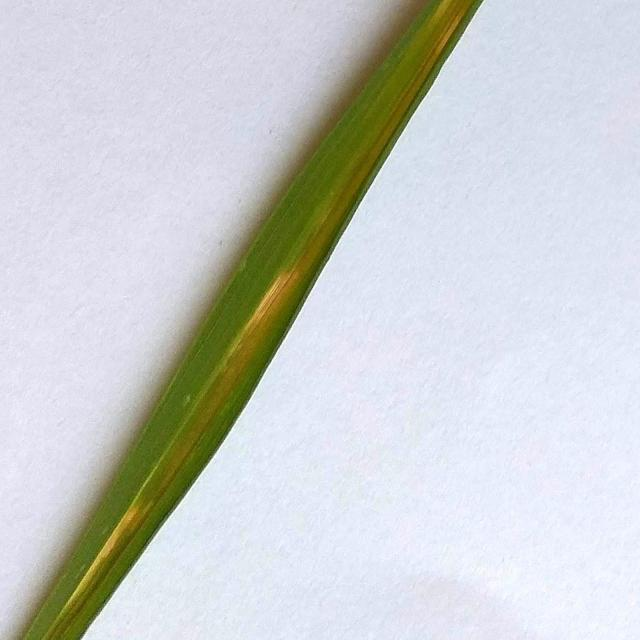Leaf_Blast: (232, 270, 284, 340)
